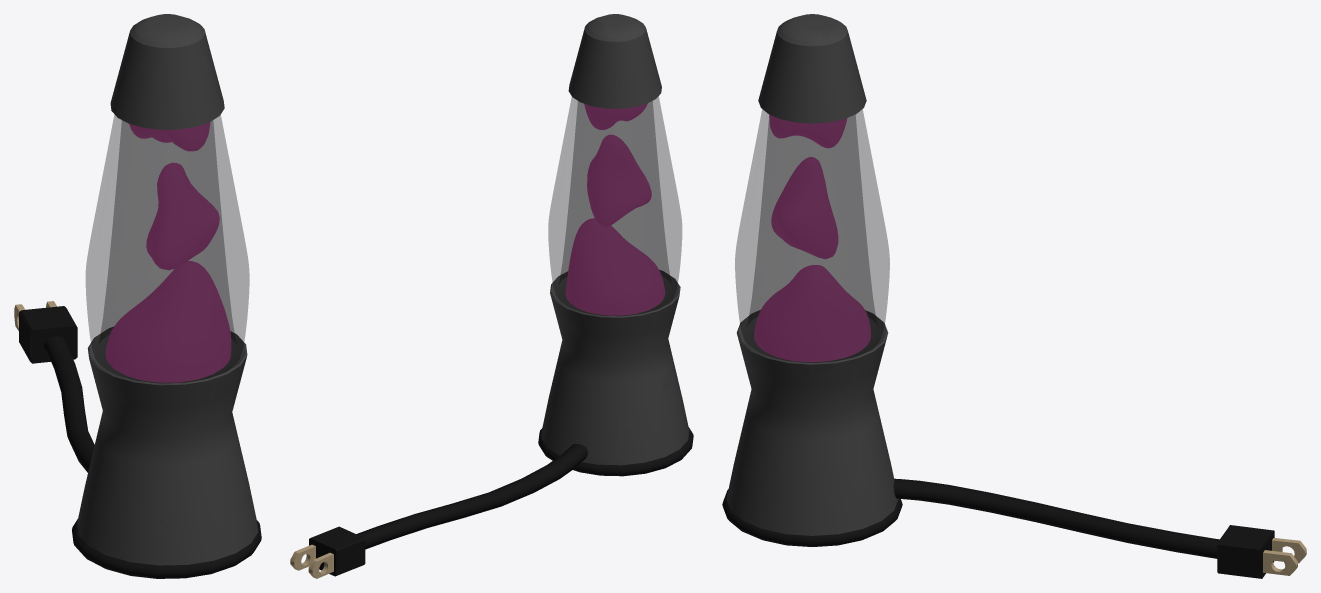
Rendered from lava_lamp.glb.
3 renders of one model, left to right at view 1: azimuth 30°, elevation 25°; view 2: azimuth 150°, elevation 25°; view 3: azimuth 270°, elevation 25°, orthographic. The views are drawn at different scales.
Visible parts, largest first — view 1: defaultMaterial (×4); view 2: defaultMaterial (×4); view 3: defaultMaterial (×4).
Boxes of the visible parts, left/top/right/bottom form: defaultMaterial (×4): left=14, top=14, right=261, bottom=578; defaultMaterial (×4): left=290, top=14, right=693, bottom=578; defaultMaterial (×4): left=722, top=14, right=1306, bottom=578.
Bounding box in the file's own units: 0.1882 × 0.42 × 0.4489.
4 materials, 2 textured.
